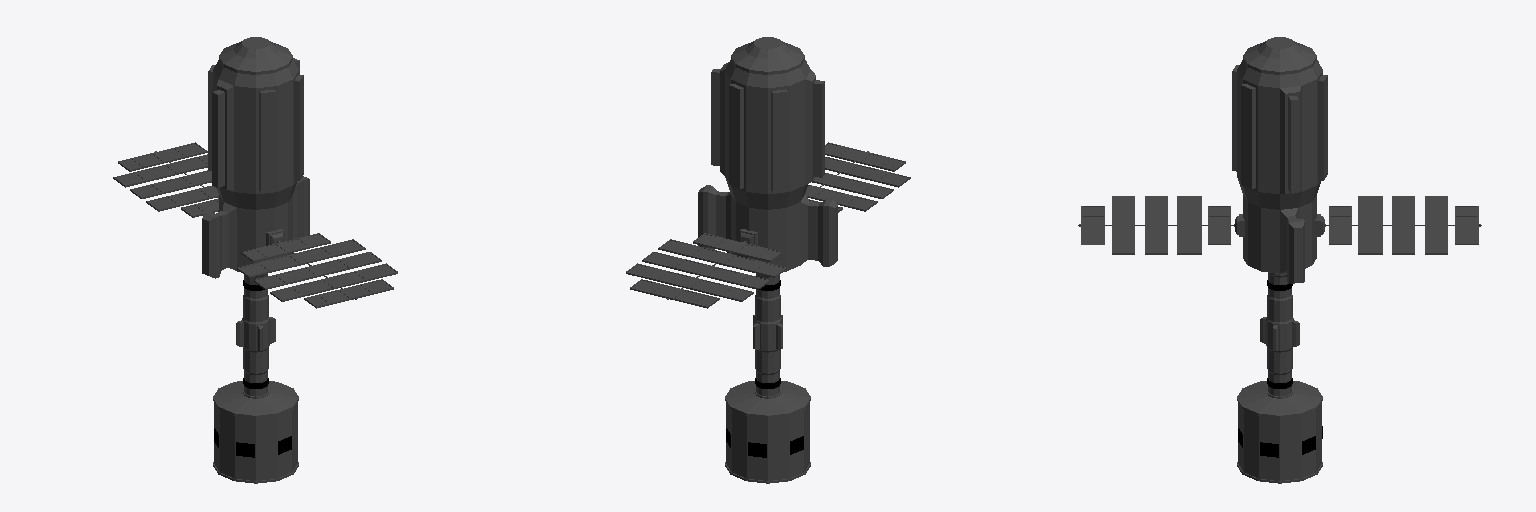
The model's file is Station.obj.
3 views of the same model, side by side, from view 1: azimuth 30°, elevation 25°; view 2: azimuth 150°, elevation 25°; view 3: azimuth 270°, elevation 25° (orthographic).
Visible parts, largest first — view 1: Cylinder002, Box001, Cylinder001; view 2: Cylinder002, Box001, Cylinder001; view 3: Cylinder002, Box001, Cylinder001.
Part boxes in pixels (left/top/right/bottom): Cylinder002: left=202, top=37, right=309, bottom=417; Box001: left=113, top=142, right=397, bottom=308; Cylinder001: left=213, top=403, right=298, bottom=483; Cylinder002: left=698, top=37, right=837, bottom=417; Box001: left=626, top=142, right=910, bottom=308; Cylinder001: left=725, top=403, right=810, bottom=483; Cylinder002: left=1232, top=37, right=1327, bottom=417; Box001: left=1078, top=196, right=1481, bottom=254; Cylinder001: left=1237, top=403, right=1322, bottom=483.
Bounding box in the file's own units: 236 × 790 × 679.